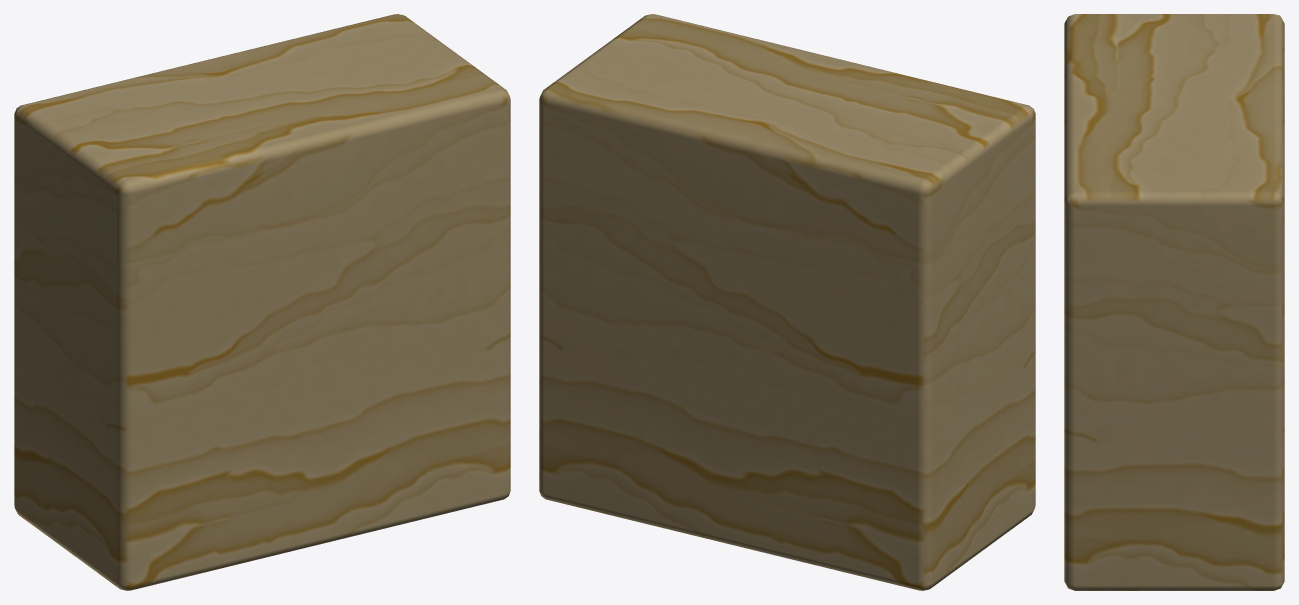
File: SM_Platform_1m_02_D.glb
3 views of the same model, side by side, from view 1: azimuth 30°, elevation 25°; view 2: azimuth 150°, elevation 25°; view 3: azimuth 270°, elevation 25° (orthographic). The views are drawn at different scales.
Visible parts, largest first — view 1: SM_Platform_1m_02_D; view 2: SM_Platform_1m_02_D; view 3: SM_Platform_1m_02_D.
Boxes of the visible parts, x1,y1,x2,y2 form: SM_Platform_1m_02_D: [14, 14, 510, 590]; SM_Platform_1m_02_D: [539, 14, 1035, 590]; SM_Platform_1m_02_D: [1064, 14, 1284, 590].
Size of the model in its own units: 2 by 2 by 1.
1 material, 1 textured.
